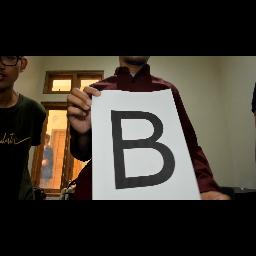b: (102, 104, 178, 192)
